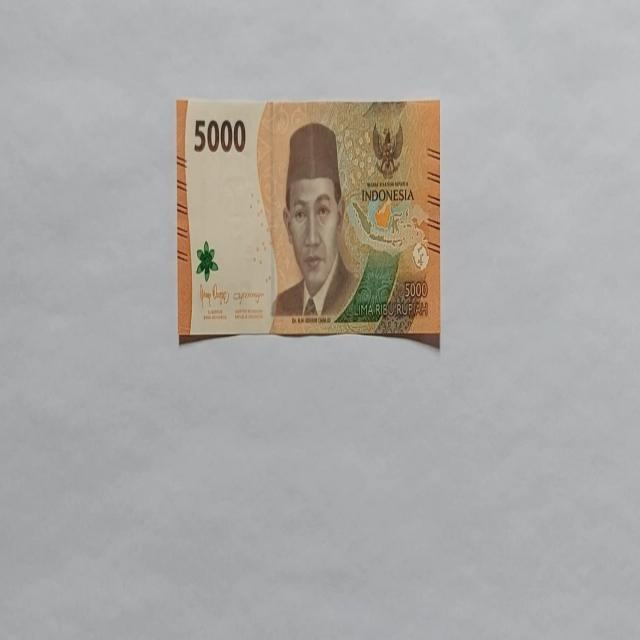lima ribu rupiah: (176, 96, 441, 347), (272, 121, 360, 321)
